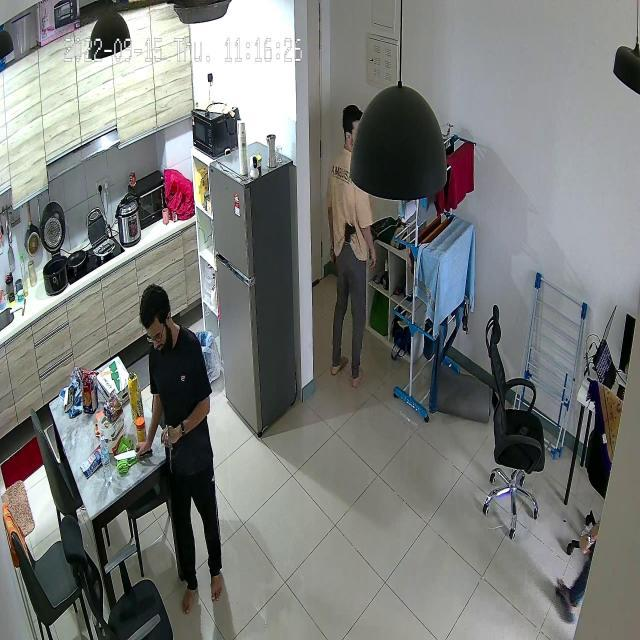Gun: (336, 213, 362, 254)
